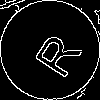R: (25, 25, 83, 81)
